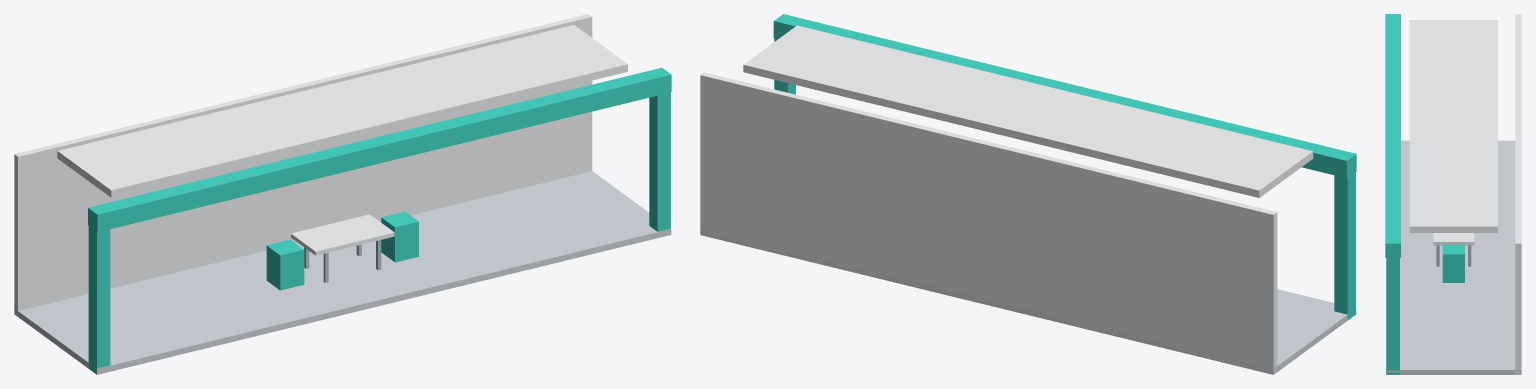
The picture shows the model from 3 angles, left to right: view 1: azimuth 30°, elevation 25°; view 2: azimuth 150°, elevation 25°; view 3: azimuth 270°, elevation 25°; orthographic projection. The views are drawn at different scales.
Parts seen in each view (by area): view 1: Exhibition Booth Concept; view 2: Exhibition Booth Concept; view 3: Exhibition Booth Concept.
Boxes of the visible parts, x1,y1,x2,y2 form: Exhibition Booth Concept: (14, 14, 671, 374); Exhibition Booth Concept: (700, 14, 1356, 374); Exhibition Booth Concept: (1385, 14, 1521, 374).
Size of the model in its own units: 12 by 3.34 by 3.01.
